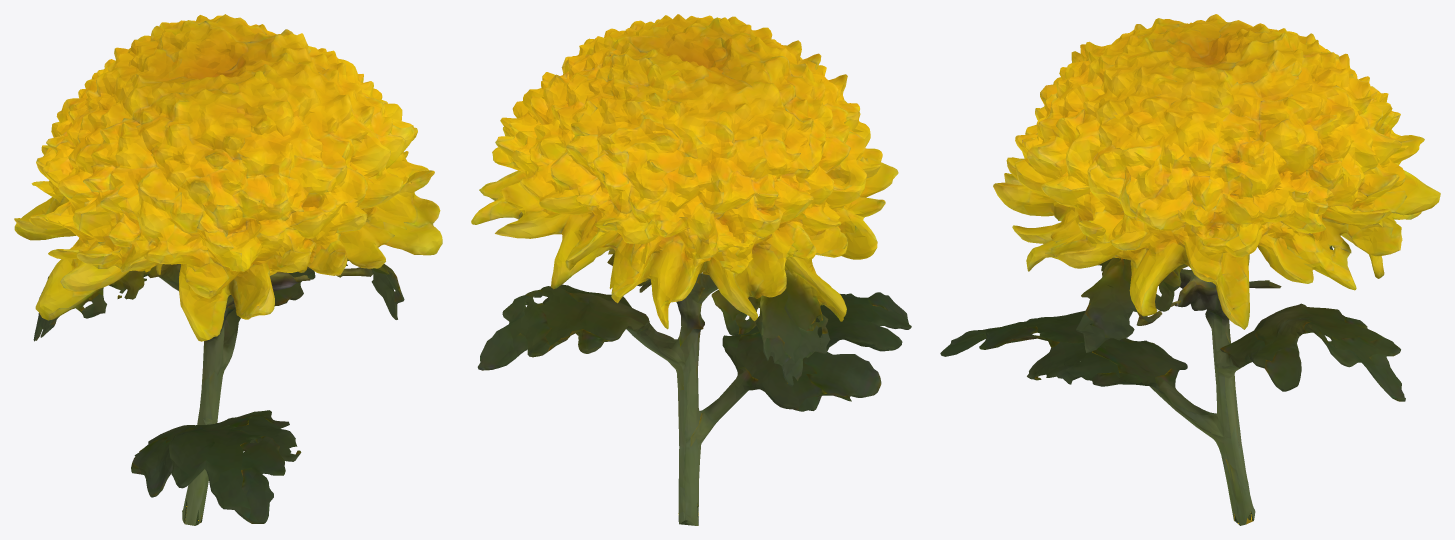
The model's file is chrysanthemum.glb.
The picture shows the model from 3 angles, left to right: view 1: azimuth 30°, elevation 25°; view 2: azimuth 150°, elevation 25°; view 3: azimuth 270°, elevation 25°; orthographic projection. The views are drawn at different scales.
Parts seen in each view (by area): view 1: Model_material0_0; view 2: Model_material0_0; view 3: Model_material0_0.
Boxes of the visible parts, x1,y1,x2,y2 form: Model_material0_0: [14, 14, 442, 525]; Model_material0_0: [471, 14, 911, 525]; Model_material0_0: [940, 14, 1440, 525].
Size of the model in its own units: 0.1315 by 0.1645 by 0.1502.
Materials: 1 (1 with a texture image).
